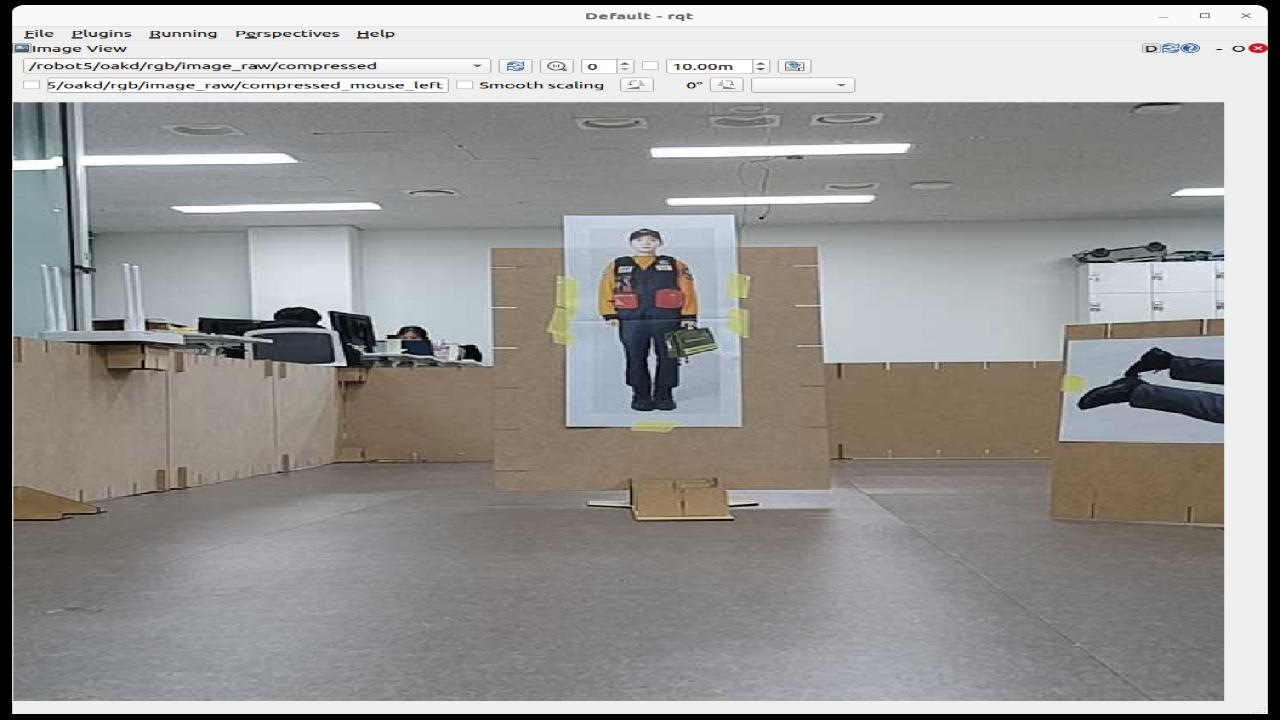Patient: (1077, 348, 1224, 423)
Responder: (599, 229, 698, 411)
